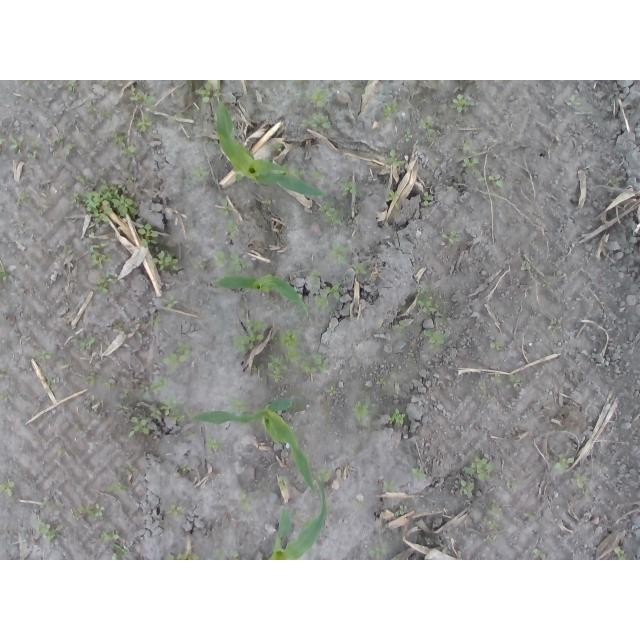Maize: (214, 80, 328, 198), (190, 397, 319, 496), (210, 275, 315, 324), (267, 480, 328, 560)
Weeds: (82, 184, 139, 225), (273, 328, 304, 365), (235, 319, 269, 352), (163, 341, 191, 371), (160, 399, 196, 422), (224, 253, 255, 277), (266, 353, 289, 383), (313, 283, 339, 309), (467, 457, 496, 480), (110, 132, 136, 157), (90, 242, 113, 270), (195, 81, 222, 104), (152, 250, 180, 271), (299, 355, 327, 375), (319, 201, 342, 224), (128, 86, 156, 104), (299, 114, 330, 130), (93, 272, 116, 293), (128, 416, 151, 437), (424, 330, 448, 350), (138, 223, 158, 247), (75, 502, 105, 518), (37, 520, 59, 540), (448, 94, 472, 112), (307, 88, 328, 108), (571, 475, 589, 498), (328, 243, 348, 263), (378, 101, 398, 121), (554, 454, 574, 474), (116, 387, 134, 409), (384, 149, 404, 168), (165, 549, 199, 560), (71, 337, 97, 351), (460, 157, 480, 175), (352, 400, 369, 420), (477, 176, 503, 189), (87, 106, 112, 119), (387, 408, 406, 425), (189, 166, 209, 182), (227, 397, 247, 413), (111, 544, 129, 561), (369, 544, 388, 560), (216, 200, 233, 217), (459, 479, 474, 498), (237, 492, 251, 512), (416, 300, 437, 313), (138, 115, 153, 133), (225, 219, 239, 238), (441, 230, 461, 243), (463, 138, 478, 155), (161, 295, 179, 309), (385, 189, 399, 207), (1, 480, 16, 496), (205, 436, 219, 453), (165, 503, 182, 517), (340, 181, 357, 195), (107, 482, 130, 492), (548, 319, 560, 338), (506, 375, 521, 390), (215, 251, 230, 266), (316, 469, 332, 483), (151, 377, 167, 391), (34, 348, 51, 361), (352, 262, 367, 276), (150, 406, 163, 422), (566, 96, 583, 108), (10, 136, 24, 150), (420, 119, 434, 133), (310, 270, 323, 285), (411, 467, 426, 480), (382, 480, 396, 493), (101, 532, 120, 541), (147, 315, 162, 326), (309, 170, 325, 180), (138, 384, 150, 397), (534, 548, 547, 560), (614, 548, 627, 560), (608, 176, 620, 189), (76, 174, 92, 183), (325, 385, 338, 396), (490, 373, 503, 384), (65, 144, 76, 157), (491, 503, 502, 516), (489, 342, 504, 351), (278, 475, 287, 490), (422, 191, 431, 206), (0, 268, 8, 284), (404, 128, 413, 142), (215, 548, 225, 560), (487, 521, 499, 531), (395, 321, 409, 329), (86, 374, 96, 385), (19, 191, 30, 201), (394, 507, 405, 517), (325, 500, 334, 512), (292, 168, 304, 177), (70, 193, 79, 204), (54, 135, 65, 144), (524, 512, 536, 520), (248, 364, 260, 372), (272, 143, 282, 152), (229, 552, 239, 561), (113, 322, 123, 331), (521, 262, 531, 271), (47, 377, 53, 392), (377, 378, 388, 386), (193, 260, 204, 268), (67, 81, 75, 92), (180, 465, 191, 472), (0, 393, 8, 402), (104, 381, 113, 389), (26, 151, 36, 158), (125, 174, 135, 181), (507, 482, 517, 489), (478, 381, 485, 391), (0, 367, 10, 374), (236, 174, 243, 182), (261, 200, 272, 205), (167, 116, 177, 121), (417, 290, 424, 297), (356, 503, 364, 509), (0, 137, 4, 147), (20, 221, 25, 228)
